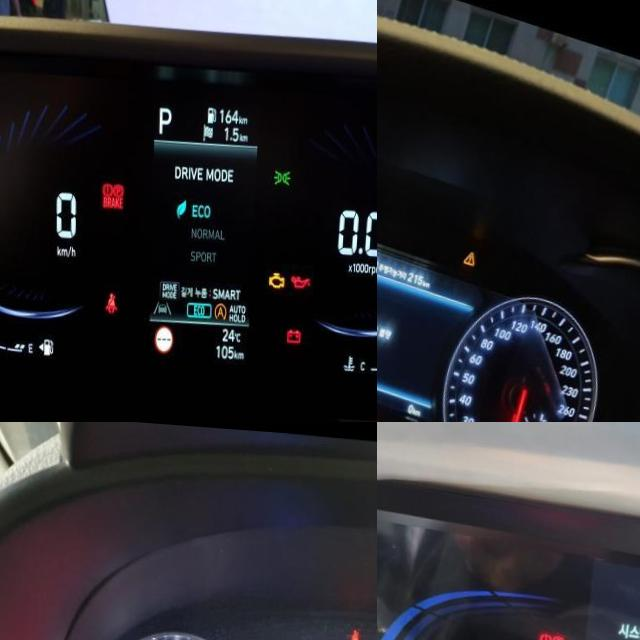Central Warning lamp: (464, 243, 479, 260)
SideLamp: (274, 162, 293, 180)
